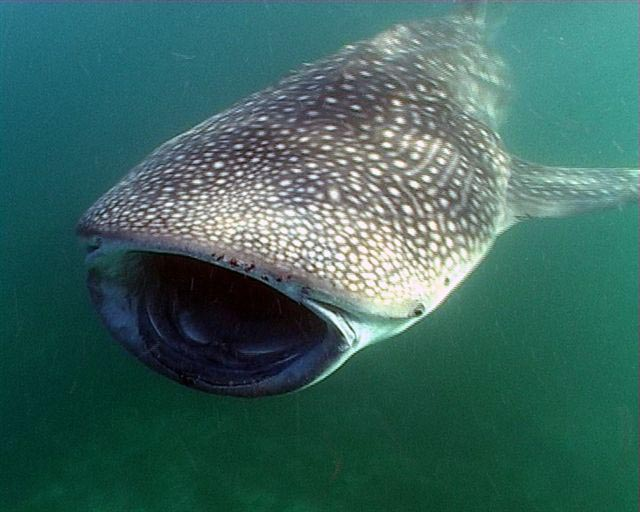Rhincodon_typusw: (30, 3, 640, 426)
